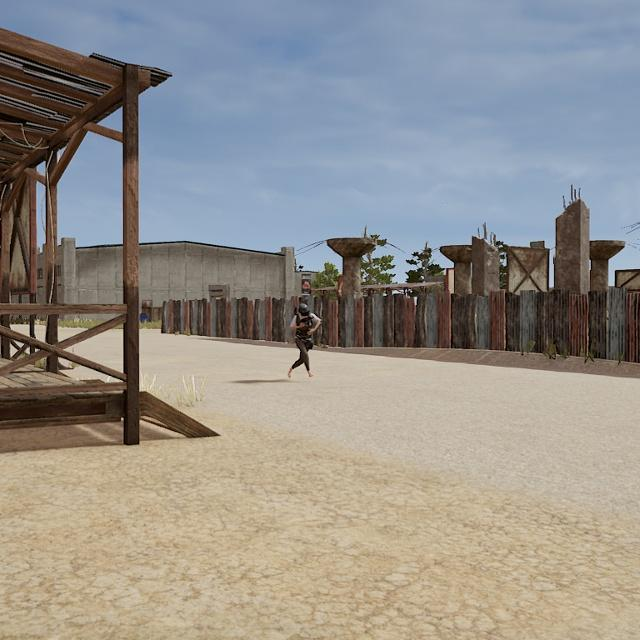head: (297, 303, 311, 317)
people: (287, 302, 321, 382)
